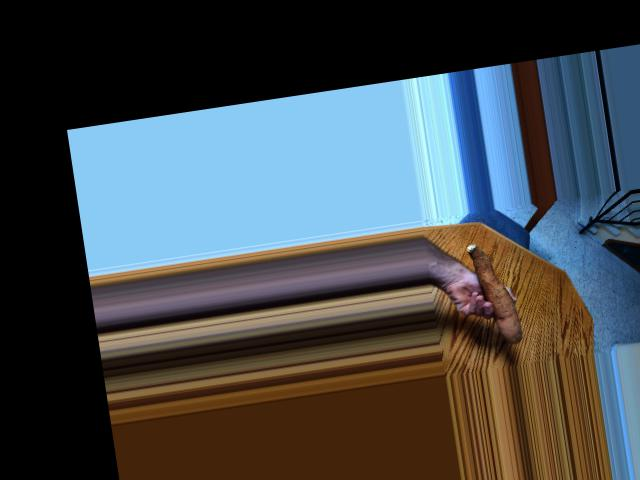sweet_potato: (456, 239, 528, 345)
